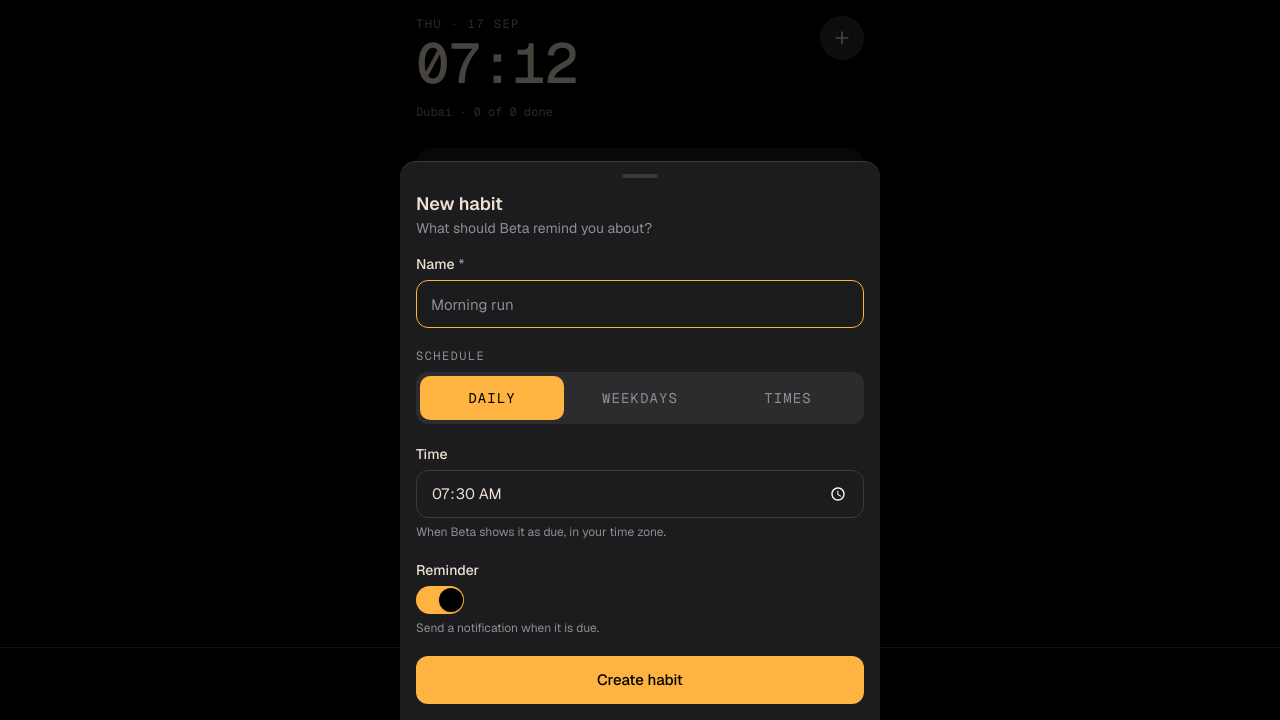
Test: Habit form › reports a rejected create without closing the sheet
Type "Meditate" into the field labelled "Name*" at (640, 304), box [416, 280, 864, 328]
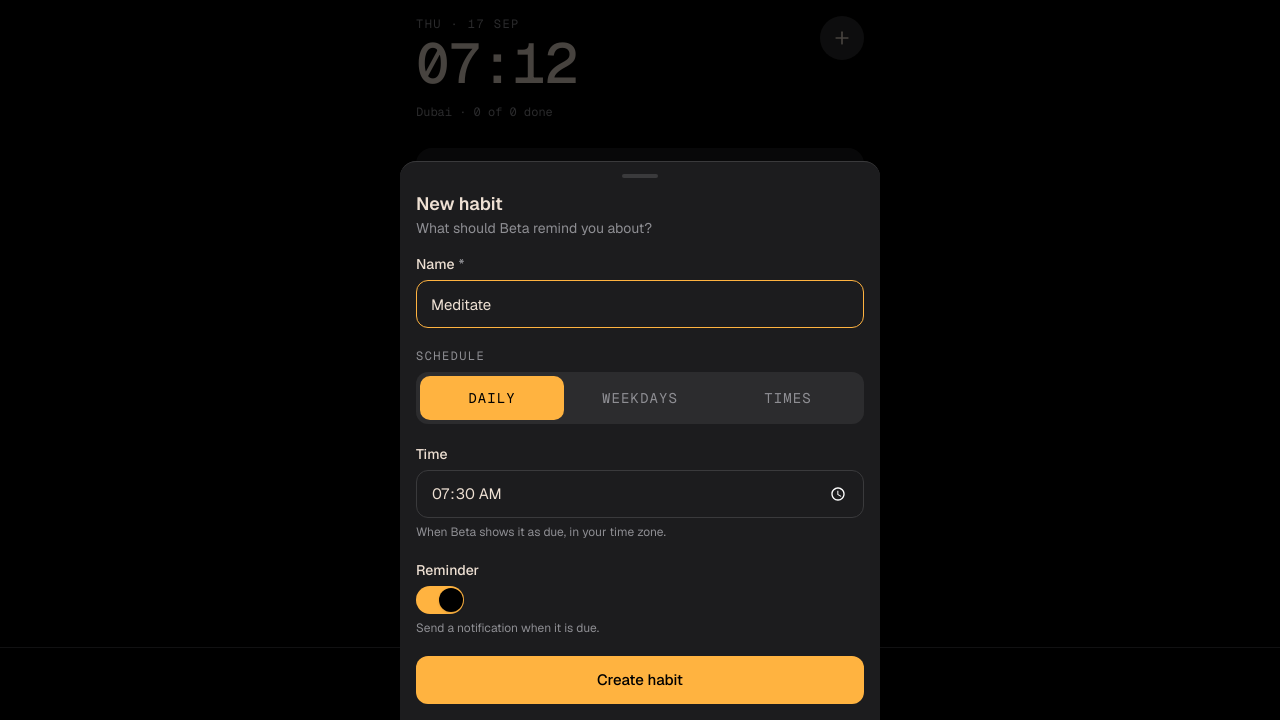
Click the button named "Create habit" at (640, 680), box [416, 656, 864, 704]
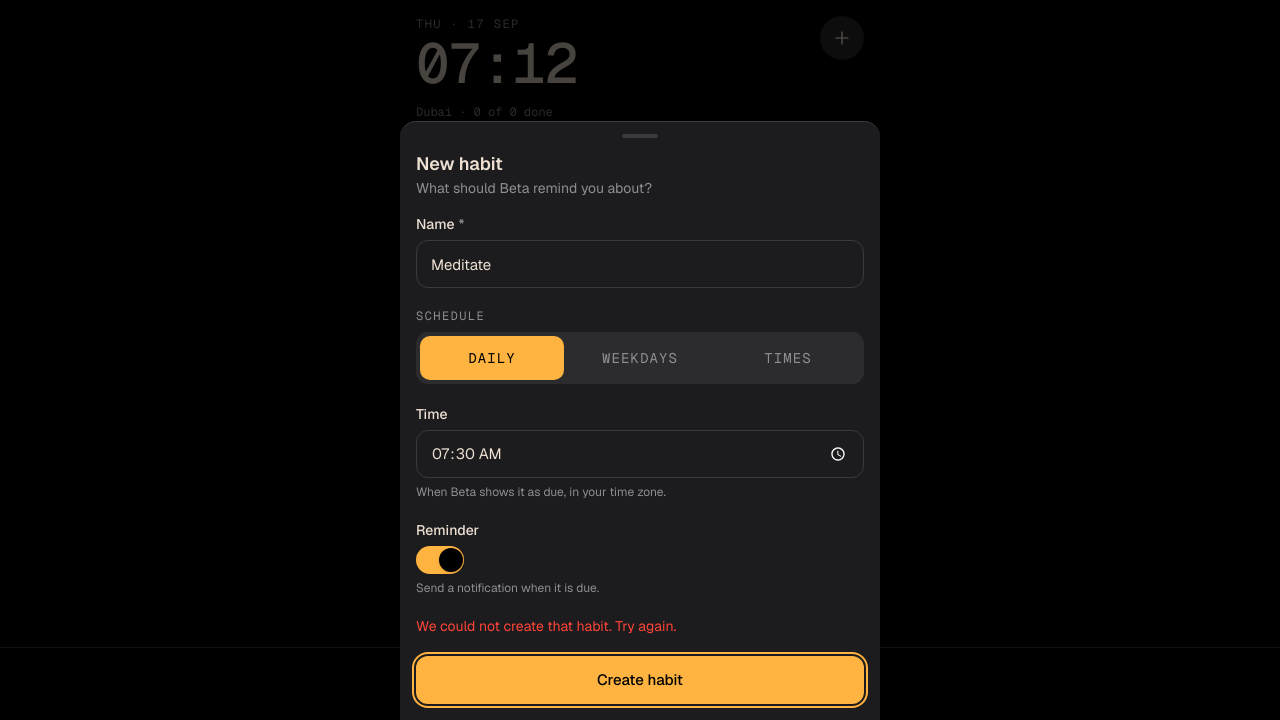
Check: the dialog "New habit" is shown, box [400, 121, 880, 719]
Check: the text "We could not create that habit. Try again." is shown, box [416, 617, 676, 635]
